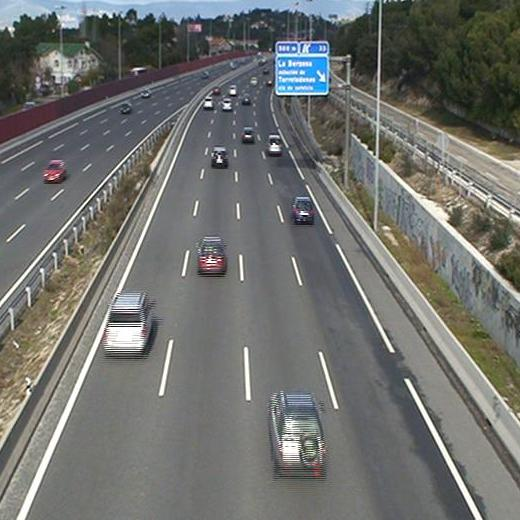car: (262, 387, 331, 479), (97, 288, 155, 352), (193, 234, 231, 275), (290, 193, 315, 223), (208, 145, 229, 167), (265, 133, 284, 154), (240, 125, 257, 146), (220, 99, 234, 114), (202, 95, 215, 111)
